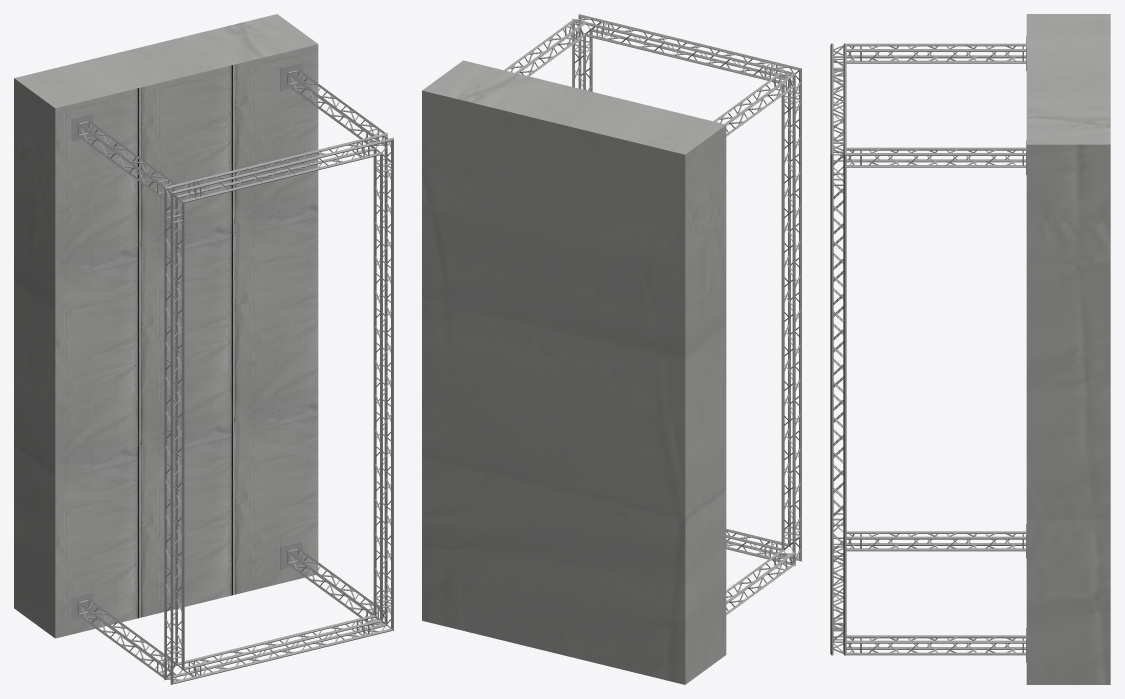
3 renders of one model, left to right at view 1: azimuth 30°, elevation 25°; view 2: azimuth 150°, elevation 25°; view 3: azimuth 270°, elevation 25°, orthographic.
Visible parts, largest first — view 1: stage_Cube, Cylinder.006, Cylinder.011, Cylinder.012, Cylinder.005, Cylinder.009, Cylinder.007, Cylinder.010, Cylinder.008, Cylinder.029_Cylinder.031, Cylinder.031_Cylinder.033, Cylinder.028 (+9 smaller); view 2: stage_Cube, Cylinder.011, Cylinder.012, Cylinder.008, Cylinder.007, Cylinder.029_Cylinder.031, Cylinder.030_Cylinder.032, Cylinder.028; view 3: stage_Cube, Cylinder.006, Cylinder.005, Cylinder.026, Cylinder.019, Cylinder.025, Cylinder.020, Cylinder.016, Cylinder.001, Cylinder.015, Cylinder.002, Cylinder.028 (+5 smaller).
Part boxes in pixels (x1=…): stage_Cube: x1=14, y1=14, x2=318, y2=638; Cylinder.006: x1=373, y1=163, x2=393, y2=603; Cylinder.011: x1=164, y1=215, x2=184, y2=654; Cylinder.012: x1=164, y1=232, x2=184, y2=637; Cylinder.005: x1=373, y1=180, x2=393, y2=586; Cylinder.009: x1=210, y1=618, x2=365, y2=673; Cylinder.007: x1=210, y1=140, x2=365, y2=194; Cylinder.010: x1=193, y1=622, x2=348, y2=677; Cylinder.008: x1=193, y1=144, x2=348, y2=198; Cylinder.029_Cylinder.031: x1=164, y1=180, x2=201, y2=223; Cylinder.031_Cylinder.033: x1=356, y1=594, x2=393, y2=637; Cylinder.028: x1=356, y1=133, x2=393, y2=172; stage_Cube: x1=422, y1=60, x2=726, y2=684; Cylinder.011: x1=781, y1=95, x2=801, y2=535; Cylinder.012: x1=781, y1=113, x2=801, y2=518; Cylinder.008: x1=617, y1=25, x2=772, y2=80; Cylinder.007: x1=600, y1=21, x2=756, y2=76; Cylinder.029_Cylinder.031: x1=764, y1=61, x2=801, y2=104; Cylinder.030_Cylinder.032: x1=764, y1=526, x2=801, y2=565; Cylinder.028: x1=572, y1=14, x2=609, y2=53; stage_Cube: x1=1026, y1=14, x2=1110, y2=684; Cylinder.006: x1=830, y1=182, x2=846, y2=624; Cylinder.005: x1=830, y1=200, x2=846, y2=607; Cylinder.026: x1=884, y1=43, x2=1019, y2=63; Cylinder.019: x1=884, y1=635, x2=1019, y2=655; Cylinder.025: x1=864, y1=43, x2=1000, y2=63; Cylinder.020: x1=864, y1=635, x2=1000, y2=655; Cylinder.016: x1=884, y1=531, x2=1019, y2=551; Cylinder.001: x1=884, y1=147, x2=1019, y2=167; Cylinder.015: x1=864, y1=531, x2=1000, y2=551; Cylinder.002: x1=864, y1=147, x2=1000, y2=167; Cylinder.028: x1=830, y1=139, x2=846, y2=185.
Size of the model in its own units: 3.77 by 7.26 by 3.41.
